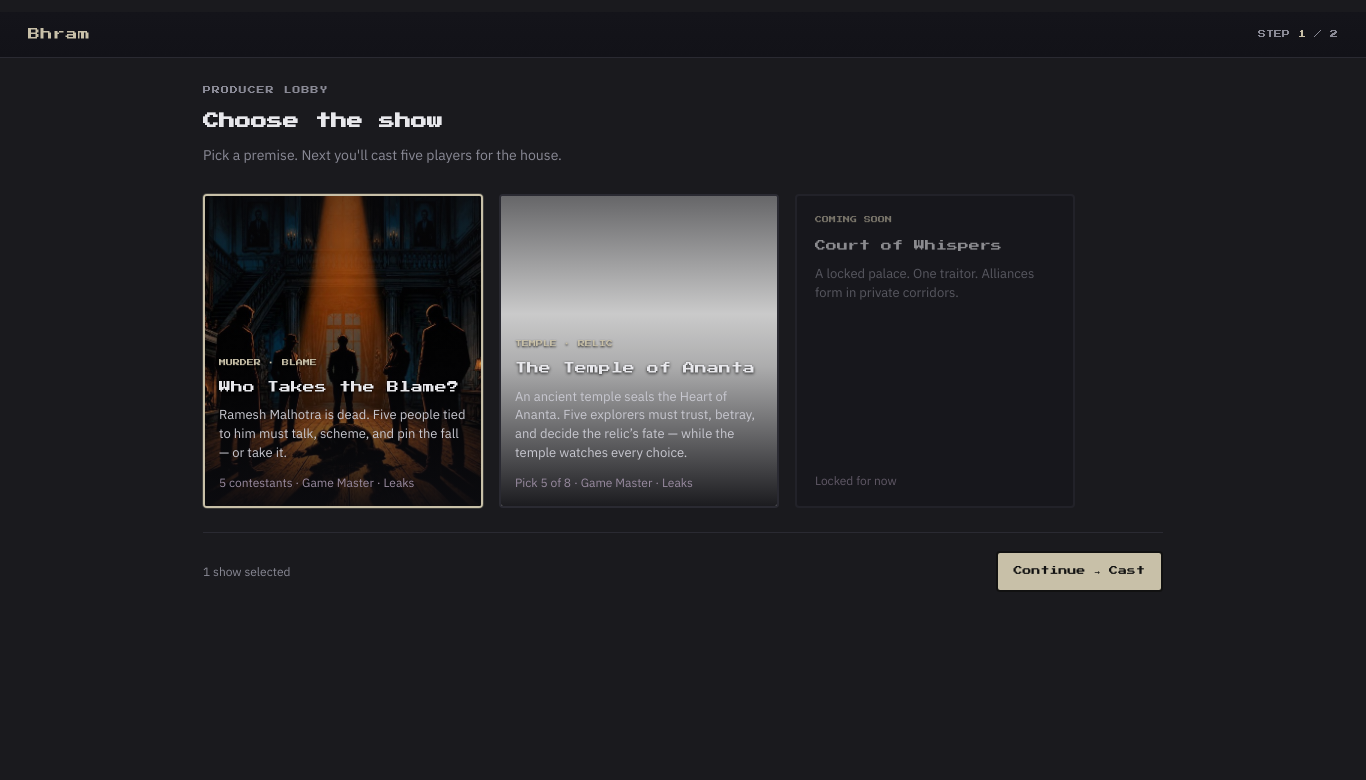
Test: ShowSetup › shows clear traits on each character card
Click the button "Continue → Cast": point(1079, 571) top-left (996, 551), bottom-right (1163, 592)
(page scrolled)
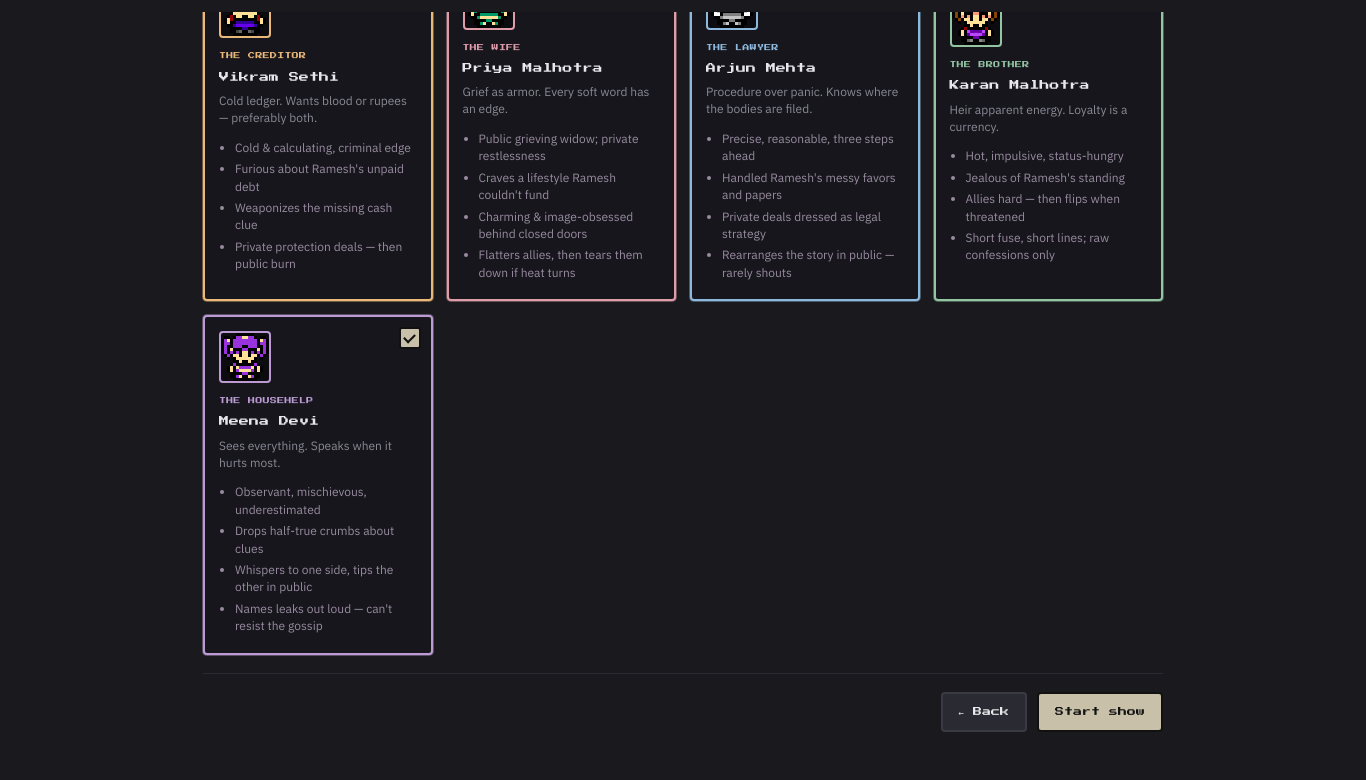
Result: the list item "Cold & calculating, criminal edge" is shown at top-left (235, 139), bottom-right (416, 156)
Result: the list item "Public grieving widow; private restlessness" is shown at top-left (478, 130), bottom-right (660, 165)
Result: the list item "Precise, reasonable, three steps ahead" is shown at top-left (722, 130), bottom-right (904, 165)
